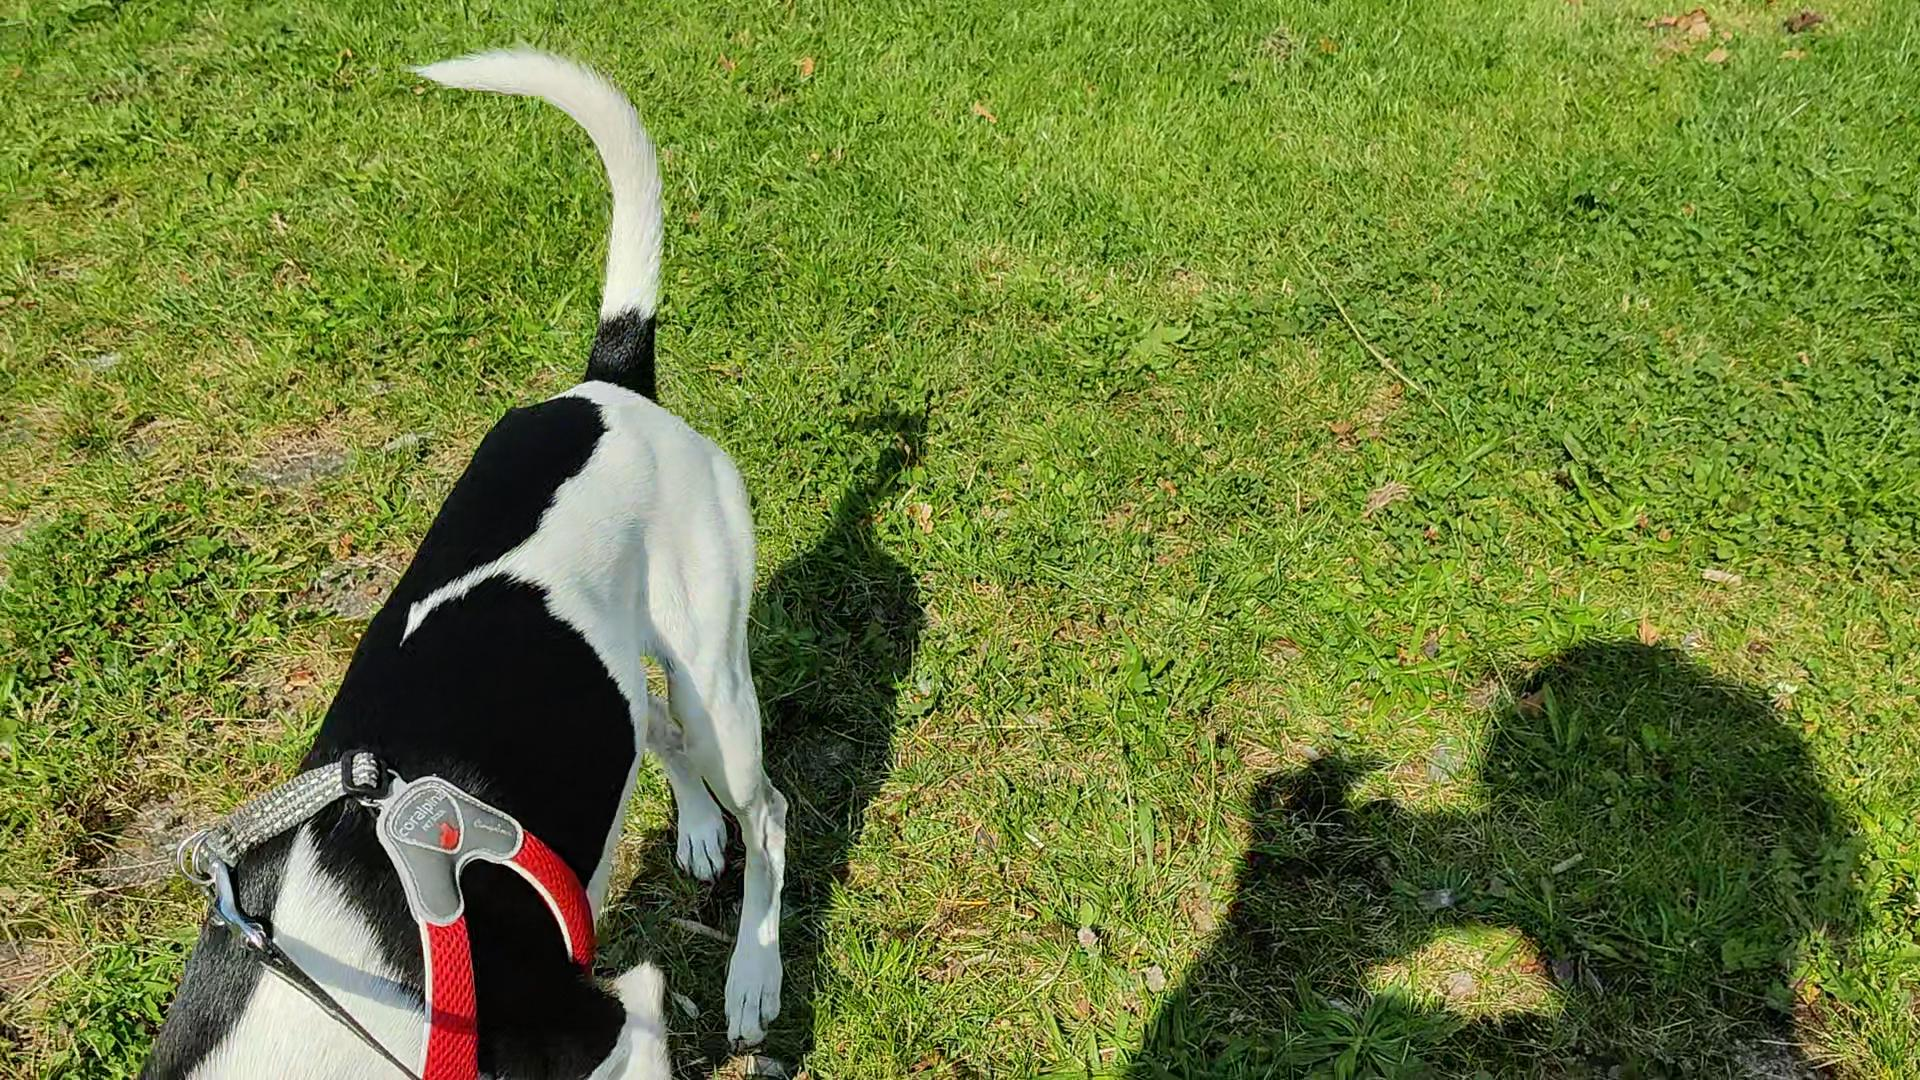Dog: (125, 36, 800, 1079)
